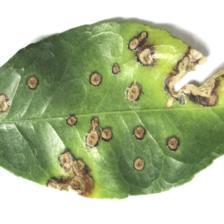canker: (0, 30, 224, 196)
